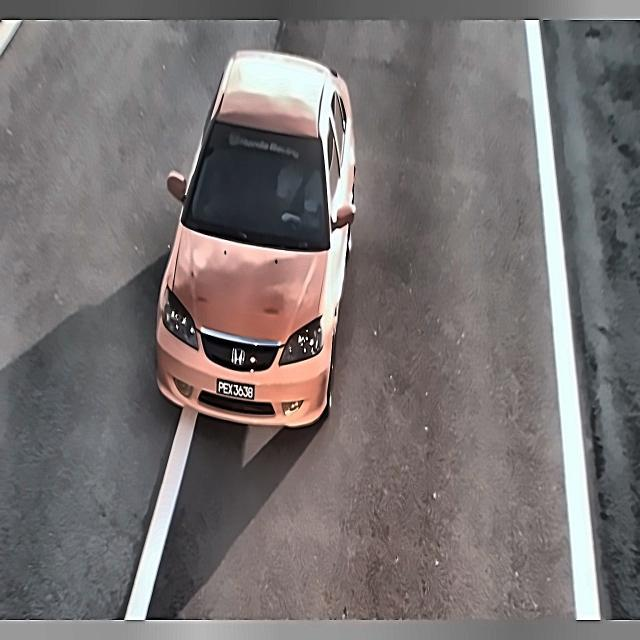car: (213, 376, 260, 404)
